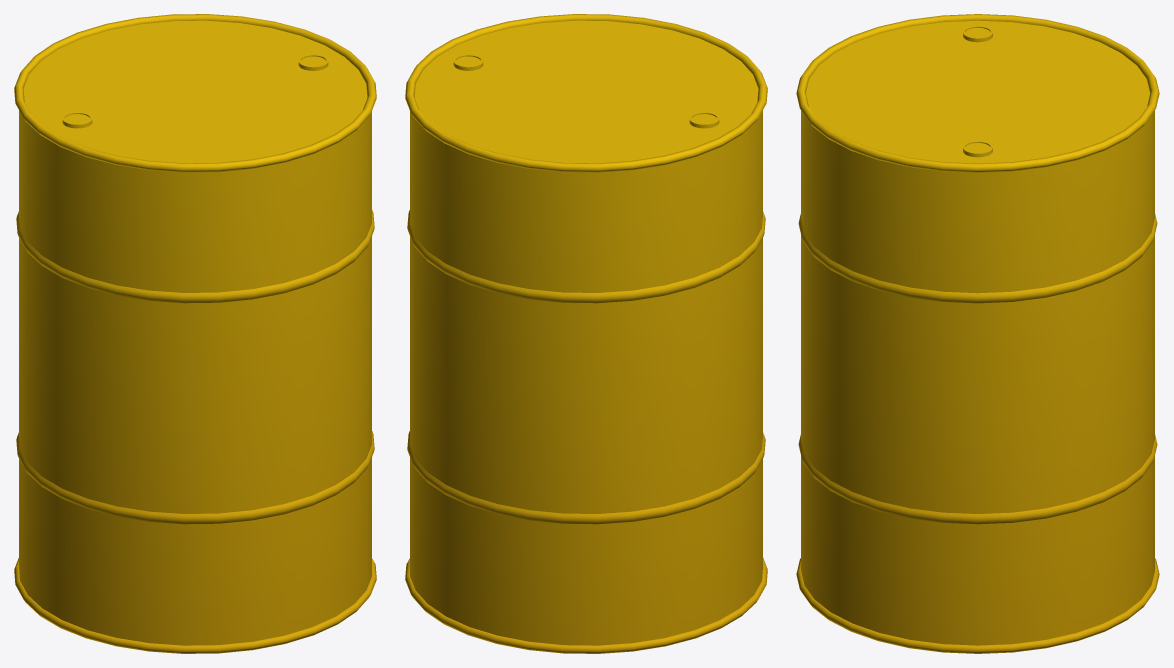
File: barrel_02_small_yellow.glb
The picture shows the model from 3 angles, left to right: view 1: azimuth 30°, elevation 25°; view 2: azimuth 150°, elevation 25°; view 3: azimuth 270°, elevation 25°; orthographic projection.
Visible parts, largest first — view 1: barrel_02_small_yellow; view 2: barrel_02_small_yellow; view 3: barrel_02_small_yellow.
Part boxes in pixels (<box>): barrel_02_small_yellow: <box>14,14,376,653</box>; barrel_02_small_yellow: <box>405,14,767,653</box>; barrel_02_small_yellow: <box>796,14,1159,653</box>.
Bounding box in the file's own units: 0.404 × 0.5993 × 0.404.
1 material, 1 textured.
